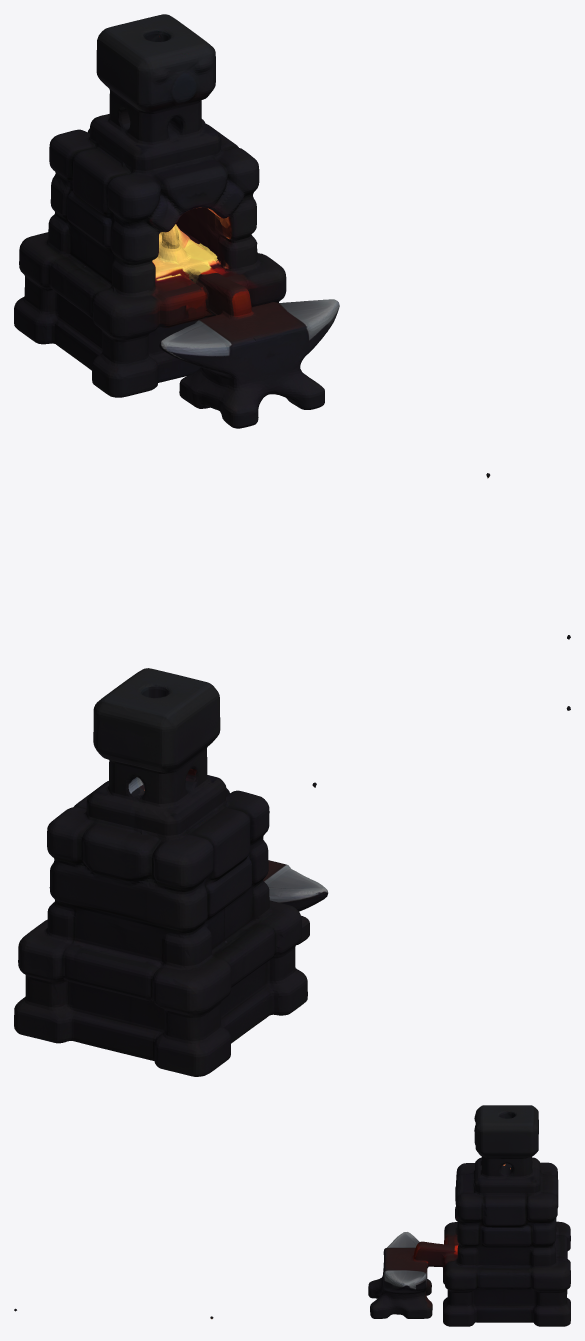
The model's file is lava_forge_hy.glb.
3 views of the same model, one above another, from view 1: azimuth 30°, elevation 25°; view 2: azimuth 150°, elevation 25°; view 3: azimuth 270°, elevation 25° (orthographic). The views are drawn at different scales.
Visible parts, largest first — view 1: textured_mesh.obj; view 2: textured_mesh.obj; view 3: textured_mesh.obj.
Part boxes in pixels (box(x1,y1,x2,y2)): textured_mesh.obj: box(14, 14, 570, 639); textured_mesh.obj: box(14, 668, 570, 1076); textured_mesh.obj: box(14, 1105, 570, 1326).
Size of the model in its own units: 0.4982 by 0.7644 by 1.99.
1 material, 1 textured.
